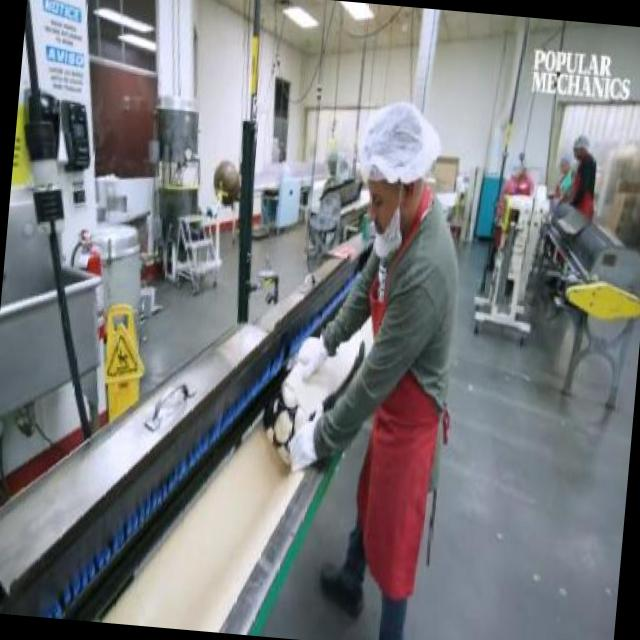hairnet: (362, 95, 442, 186), (571, 136, 592, 154), (556, 156, 574, 171)
